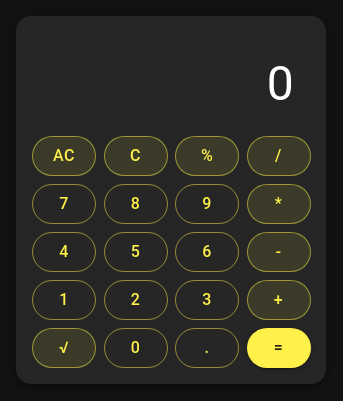
Test: Calculator App › should perform addition correctly
Click the button "1" at (64, 300), box top-left (32, 280), bottom-right (96, 320)
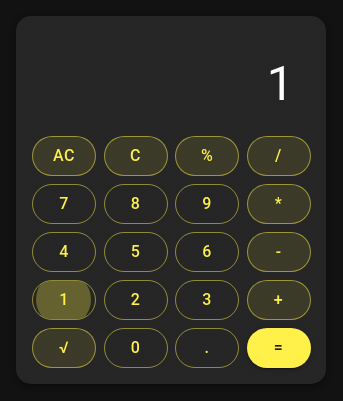
Click the button "+" at (279, 300), box top-left (247, 280), bottom-right (311, 320)
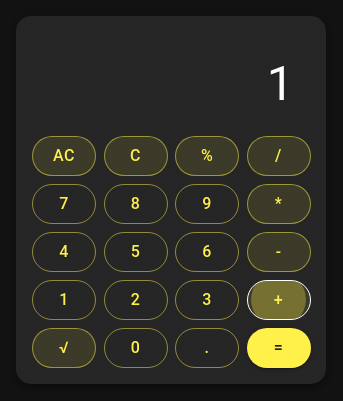
Click the button "2" at (136, 300), box top-left (104, 280), bottom-right (168, 320)
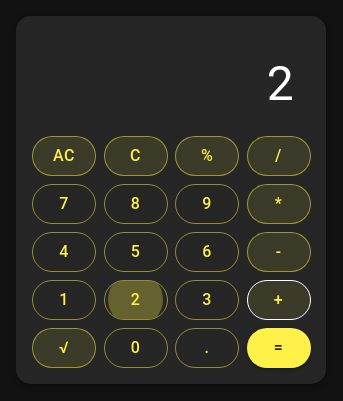
Click the button "=" at (279, 348), box top-left (247, 328), bottom-right (311, 368)
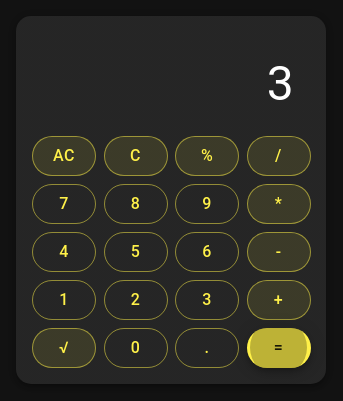
Expected: the text with test id "output" reads "3", top-left (267, 55), bottom-right (294, 112)
